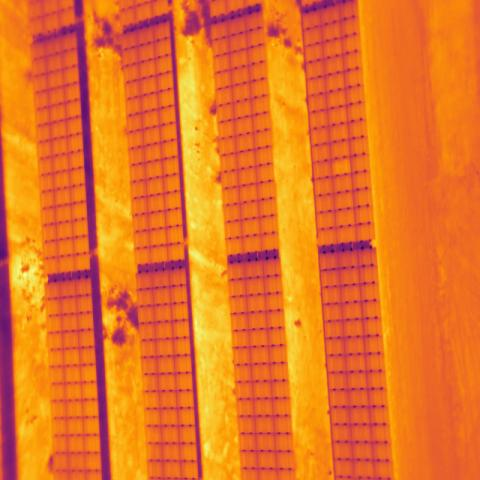fault: (330, 157, 351, 176)
